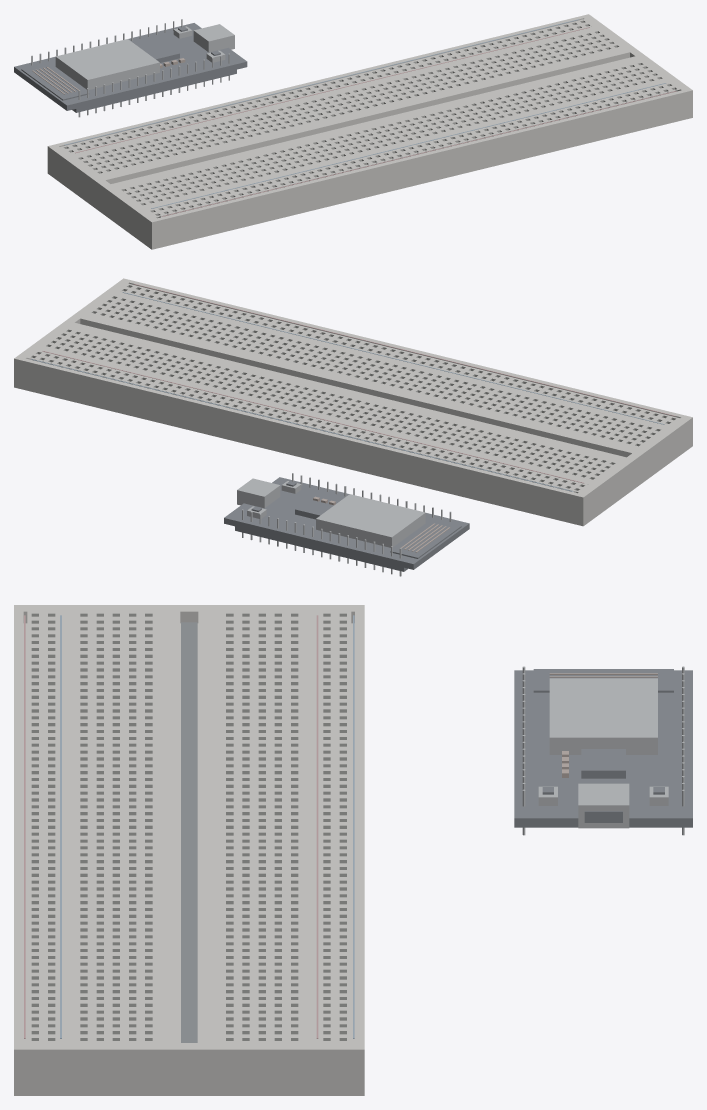
Rendered from step-1.glb.
3 renders of one model, top to bottom at view 1: azimuth 30°, elevation 25°; view 2: azimuth 150°, elevation 25°; view 3: azimuth 270°, elevation 25°, orthographic. The views are drawn at different scales.
Visible parts, largest first — view 1: breadboard__mesh, uno__mesh; view 2: breadboard__mesh, uno__mesh; view 3: breadboard__mesh, uno__mesh.
Part boxes in pixels (x1,y1,x2,y2): breadboard__mesh: (47, 14, 692, 249); uno__mesh: (14, 19, 247, 117); breadboard__mesh: (14, 278, 692, 526); uno__mesh: (224, 473, 469, 576); breadboard__mesh: (14, 605, 364, 1095); uno__mesh: (514, 666, 692, 835).
Size of the model in its own units: 0.165 by 0.009 by 0.1065.
